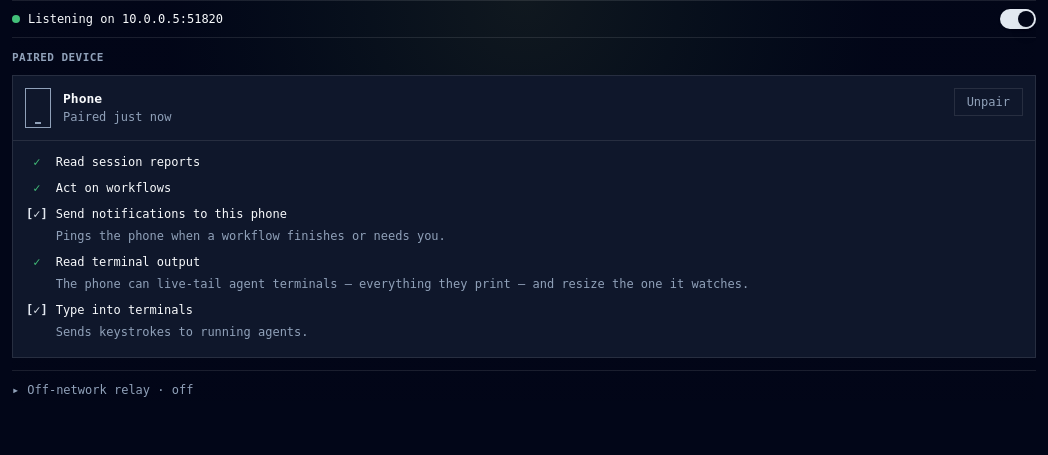
Test: PhoneBridgePanel state machine › a rejected kill-switch write surfaces the action-error line
The image size is (1048, 455).
Step 1. Click the switch labelled "[✓] Type into terminals" → (124, 310), box [25,296,1023,322]
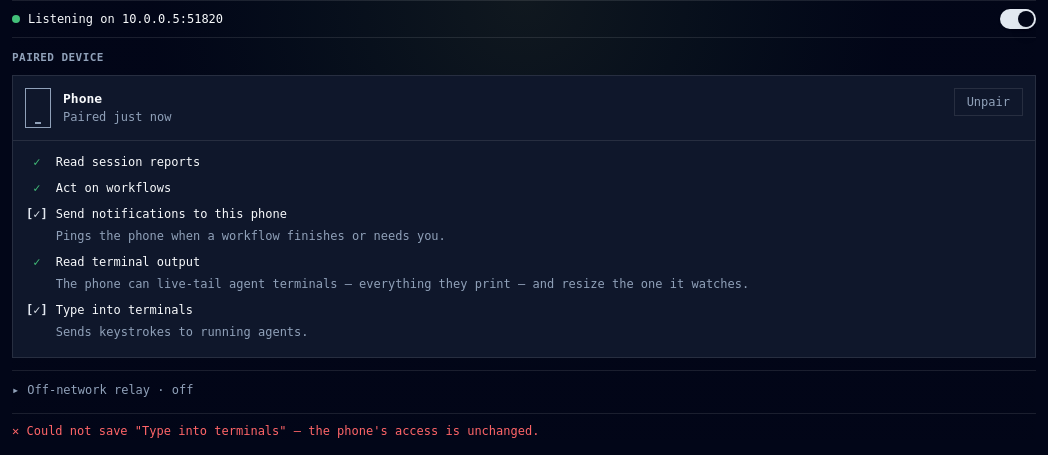
Expected: the 2nd text "[✓]" is shown, [26,300,48,318]
Expected: the text with test id "action-error" shows "Type into terminals", [26,424,540,438]
